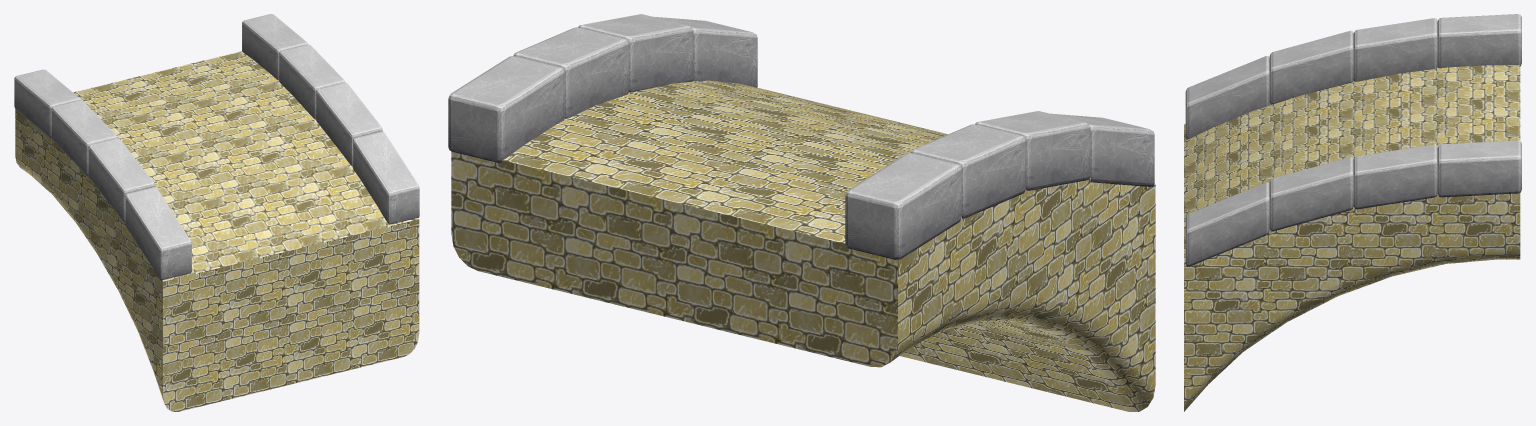
Rendered from Puente_P_Arco01.fbx.
The picture shows the model from 3 angles, left to right: view 1: azimuth 30°, elevation 25°; view 2: azimuth 150°, elevation 25°; view 3: azimuth 270°, elevation 25°; orthographic projection. The views are drawn at different scales.
Parts seen in each view (by area): view 1: Puente_P_Arco01_LOD0; view 2: Puente_P_Arco01_LOD0; view 3: Puente_P_Arco01_LOD0.
Boxes of the visible parts, bbox=[...] form: Puente_P_Arco01_LOD0: bbox=[14, 14, 419, 411]; Puente_P_Arco01_LOD0: bbox=[448, 14, 1155, 411]; Puente_P_Arco01_LOD0: bbox=[1184, 14, 1521, 411].
Size of what is drawn, in the model's own units: 406 by 346 by 402.
